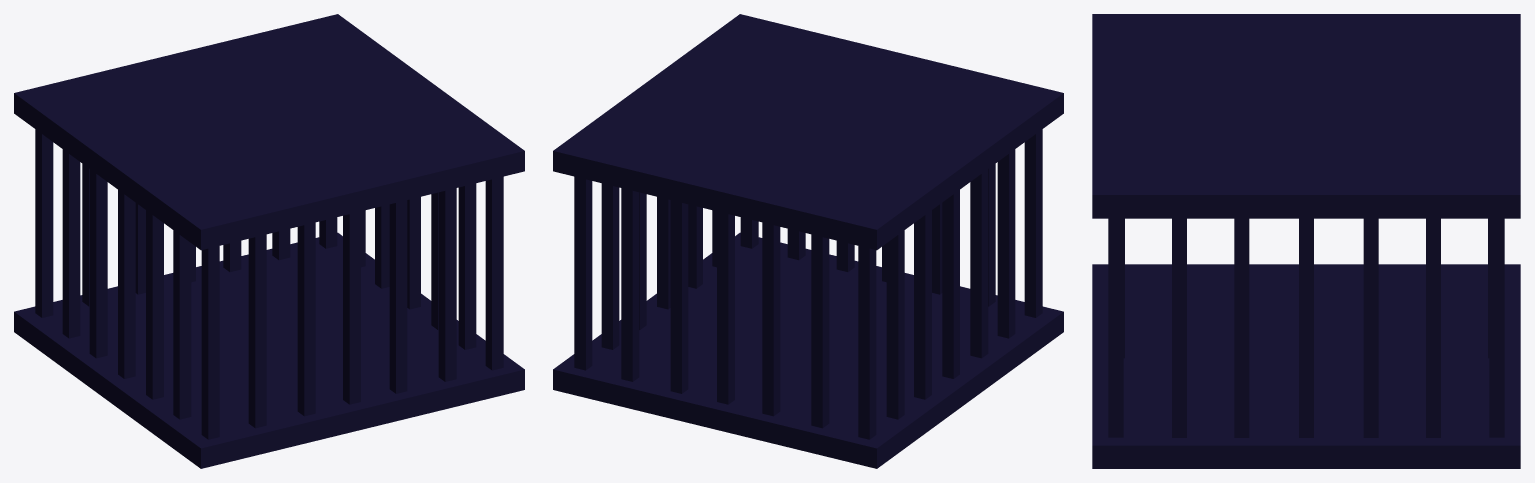
Rendered from cage.fbx.
3 views of the same model, side by side, from view 1: azimuth 30°, elevation 25°; view 2: azimuth 150°, elevation 25°; view 3: azimuth 270°, elevation 25° (orthographic). The views are drawn at different scales.
Parts seen in each view (by area): view 1: Cube.002; view 2: Cube.002; view 3: Cube.002.
Part boxes in pixels (box(x1,y1,x2,y2)): Cube.002: box(14, 14, 524, 468); Cube.002: box(553, 14, 1063, 468); Cube.002: box(1092, 14, 1520, 468).
Size of the model in its own units: 561 by 395 by 561.
